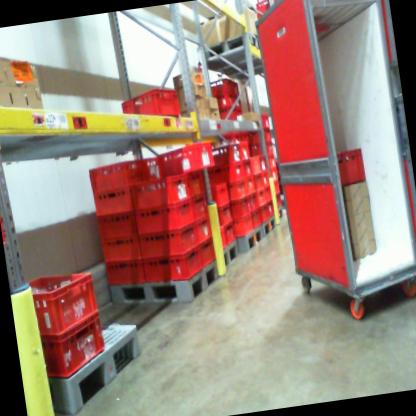pallet: (35, 312, 146, 416), (105, 253, 222, 311), (195, 27, 273, 74), (210, 242, 243, 281), (233, 222, 266, 252), (257, 208, 285, 236)
small_load_carrier: (9, 266, 108, 351), (32, 309, 113, 386), (114, 78, 189, 130), (134, 219, 200, 269), (127, 195, 199, 238), (125, 170, 195, 214), (141, 244, 207, 289), (153, 140, 216, 180), (331, 136, 374, 187), (89, 181, 138, 220), (83, 161, 131, 197), (92, 208, 138, 243), (215, 105, 272, 130), (102, 259, 146, 289), (123, 155, 165, 184), (205, 137, 243, 168), (99, 237, 142, 264), (209, 72, 242, 104), (182, 166, 210, 202), (252, 0, 284, 25), (208, 162, 244, 184), (245, 137, 276, 162), (194, 216, 214, 252), (195, 236, 217, 268), (214, 91, 245, 113), (241, 126, 273, 147), (250, 154, 269, 188), (224, 180, 248, 206), (230, 197, 252, 223), (195, 192, 214, 222), (217, 202, 236, 230), (235, 137, 255, 163), (210, 183, 230, 208), (248, 206, 268, 230), (221, 222, 238, 248), (242, 172, 257, 199), (238, 158, 255, 181), (214, 131, 241, 145), (233, 217, 254, 235), (256, 202, 270, 226), (254, 185, 268, 209), (246, 192, 260, 213), (271, 192, 284, 212), (262, 168, 273, 191), (265, 151, 276, 173), (268, 163, 279, 184), (265, 179, 275, 199), (266, 200, 276, 218), (275, 177, 281, 192)
